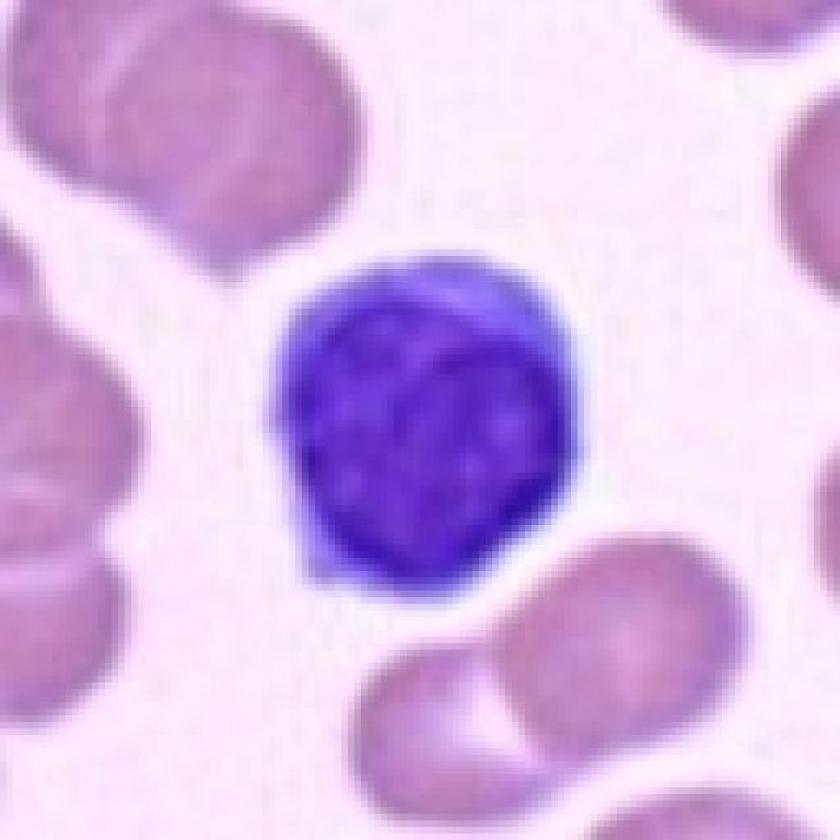lymphocyte: (244, 242, 609, 618)
